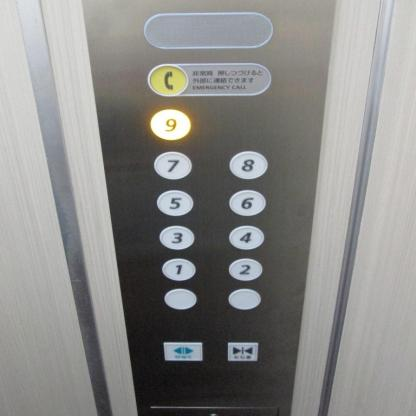1: (161, 257, 196, 282)
2: (227, 257, 263, 281)
3: (159, 225, 194, 250)
4: (226, 225, 264, 250)
5: (155, 188, 194, 217)
6: (228, 188, 267, 216)
7: (152, 150, 192, 180)
8: (227, 150, 268, 180)
9: (149, 107, 191, 141)
call: (148, 64, 188, 96)
close: (226, 340, 260, 362)
empty: (226, 288, 261, 310), (163, 288, 197, 310)
open: (162, 340, 203, 362)
